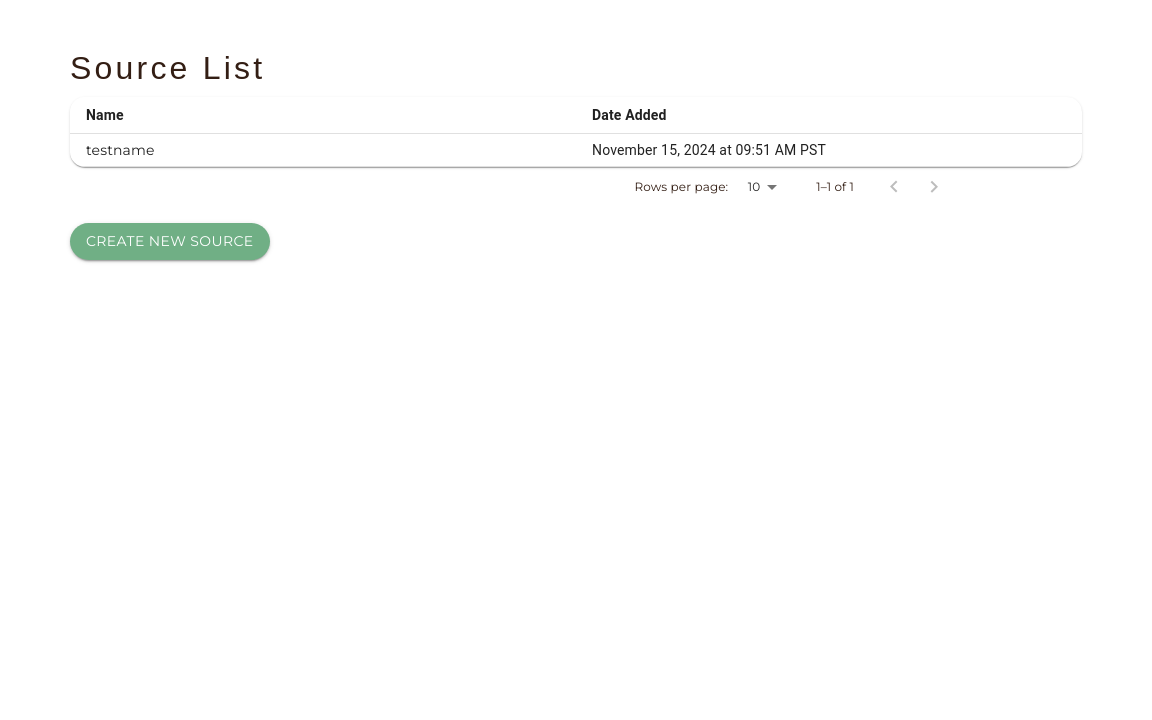
Testing Sources component › Clicking a source name renders Source component and details
What coordinates should you click on to do the following:
click the link "testname"
I would click on:
 (120, 150)
Its box is [86, 141, 155, 159].
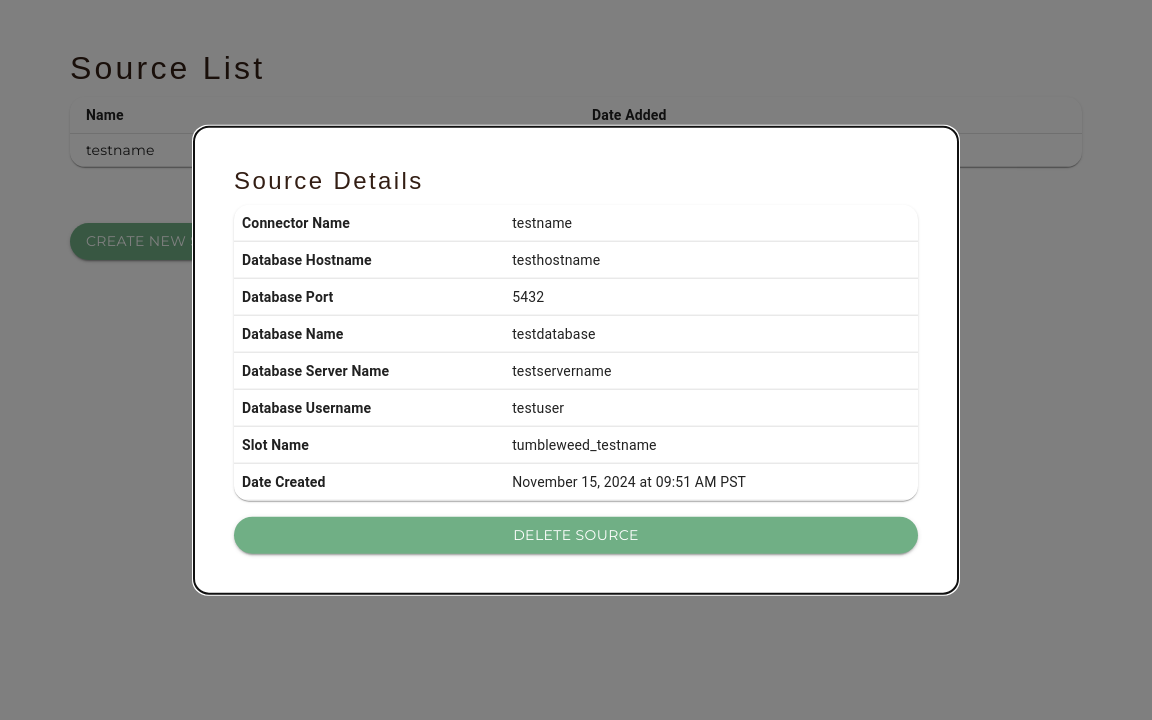
Expected: the heading "Source Details" is shown, [234, 167, 424, 194]
